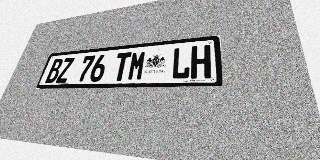6: (88, 54, 108, 82)
7: (76, 55, 96, 82)
B: (45, 58, 64, 83)
H: (190, 45, 211, 79)
L: (171, 46, 191, 79)
M: (127, 51, 147, 81)
T: (112, 52, 132, 81)
Z: (55, 57, 75, 83)
